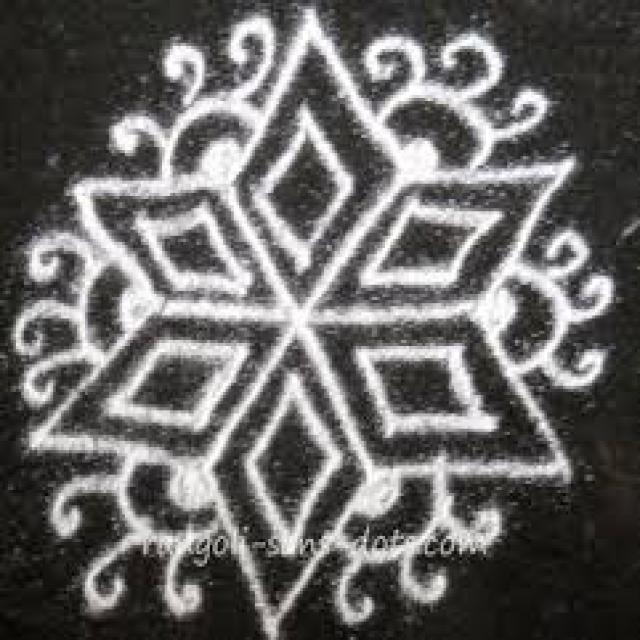rangoli: (1, 0, 616, 621)
